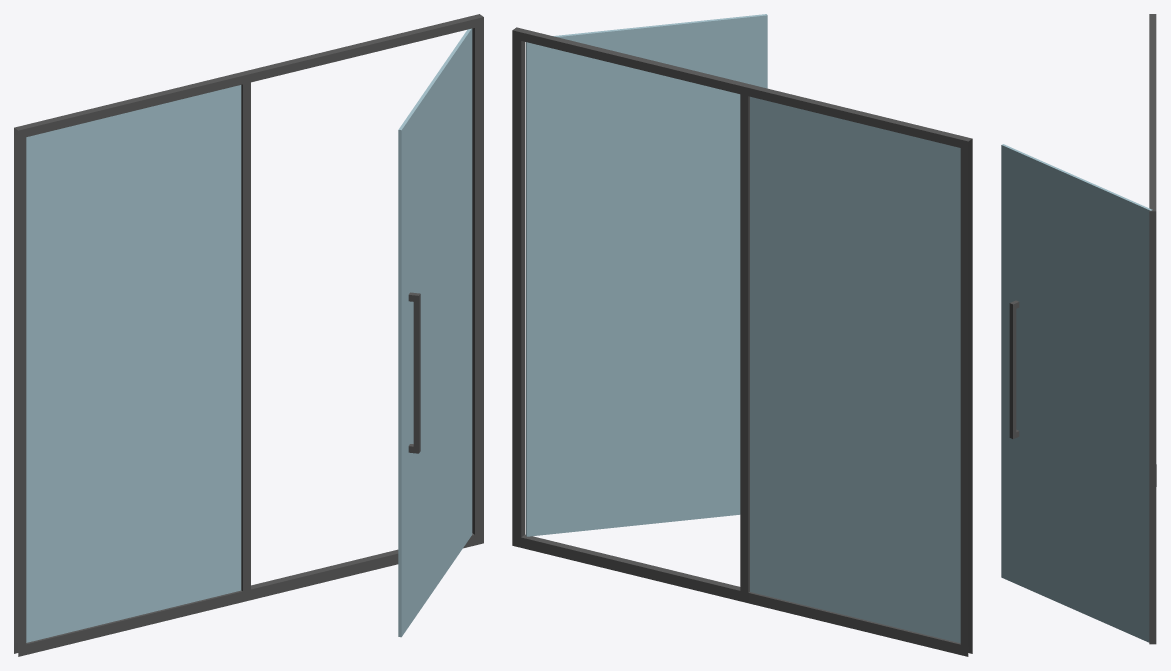
File: Door_8.fbx
3 renders of one model, left to right at view 1: azimuth 30°, elevation 25°; view 2: azimuth 150°, elevation 25°; view 3: azimuth 270°, elevation 25°, orthographic. The views are drawn at different scales.
Visible parts, largest first — view 1: Door_8; view 2: Door_8; view 3: Door_8.
Part boxes in pixels (x1=…): Door_8: x1=14, y1=14, x2=483, y2=656; Door_8: x1=512, y1=14, x2=972, y2=656; Door_8: x1=1001, y1=14, x2=1156, y2=644.
Bounding box in the file's own units: 377 × 127 × 407.
